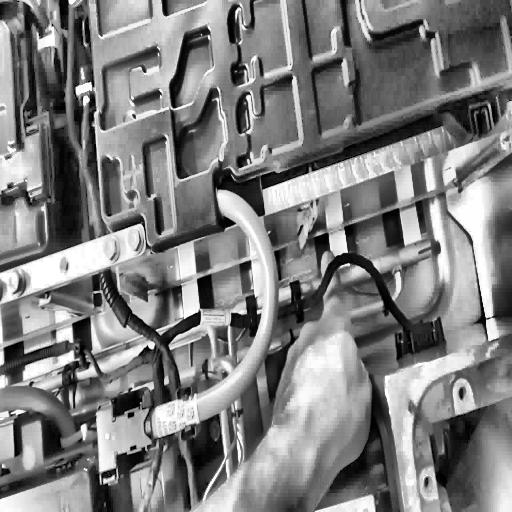high_volt_cable: (148, 180, 278, 431)
low_volt_cable: (0, 254, 443, 406), (62, 0, 190, 512)
nut: (102, 233, 118, 264), (126, 226, 142, 251), (8, 268, 21, 297)
